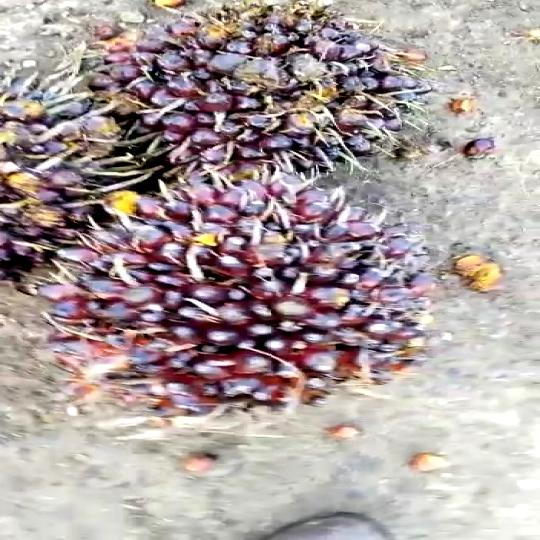kurang masak: (50, 156, 493, 424), (112, 9, 444, 168), (0, 68, 176, 242)
